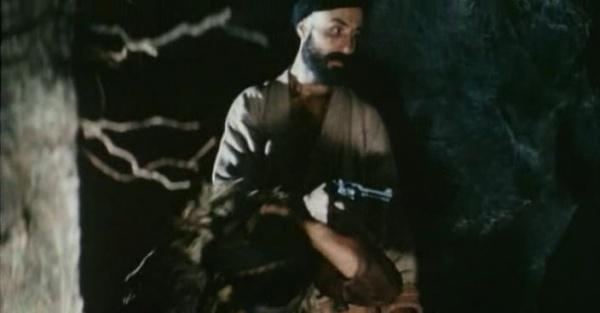Gun: (331, 178, 395, 206)
